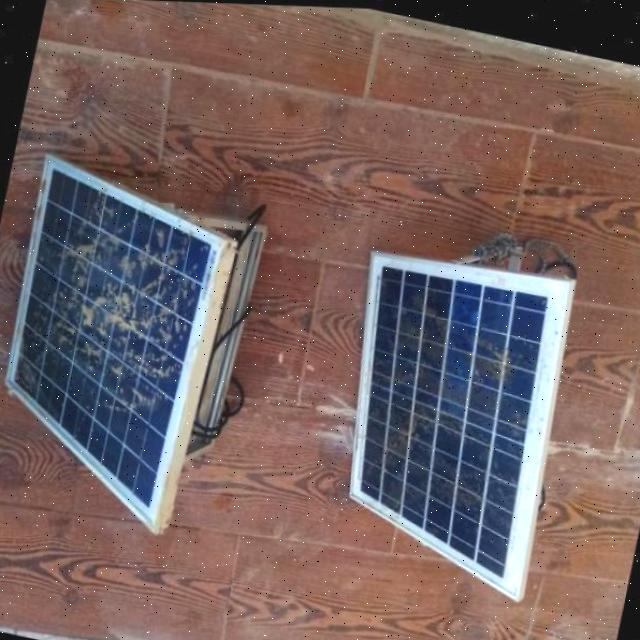Surface Contaminant: (350, 286, 553, 528), (38, 184, 210, 426), (4, 230, 66, 396)
